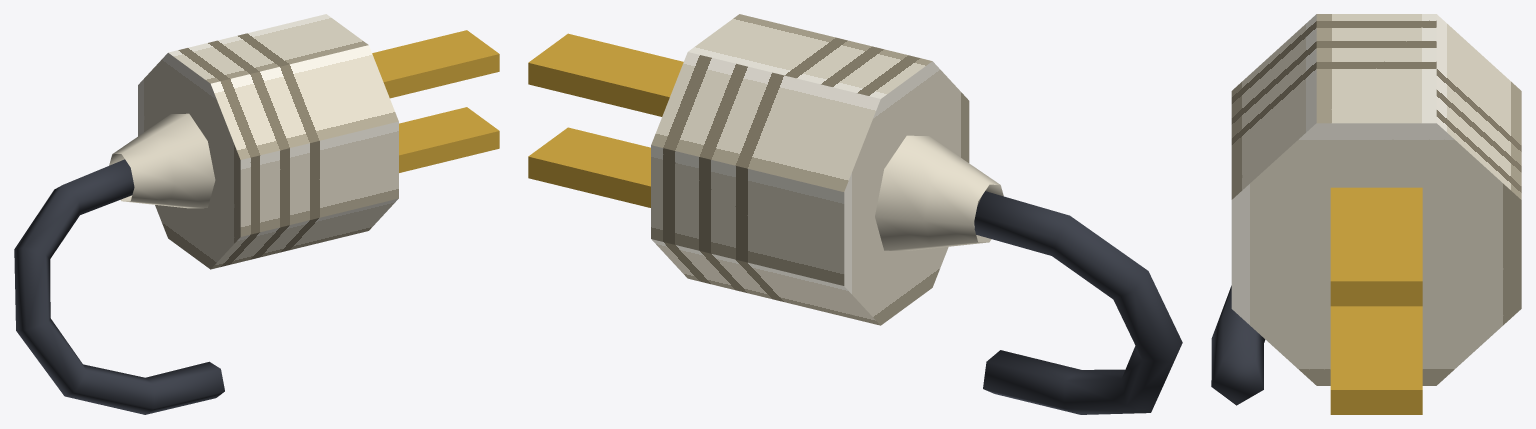
Rendered from around-plug.glb.
The picture shows the model from 3 angles, left to right: view 1: azimuth 30°, elevation 25°; view 2: azimuth 150°, elevation 25°; view 3: azimuth 270°, elevation 25°; orthographic projection. The views are drawn at different scales.
Visible parts, largest first — view 1: around.plug; view 2: around.plug; view 3: around.plug.
Boxes of the visible parts, x1=… form: around.plug: x1=14, y1=14, x2=499, y2=414; around.plug: x1=528, y1=14, x2=1182, y2=414; around.plug: x1=1211, y1=14, x2=1521, y2=414.
Size of the model in its own units: 1.85 by 1.04 by 0.7196.
5 materials, 2 textured.
